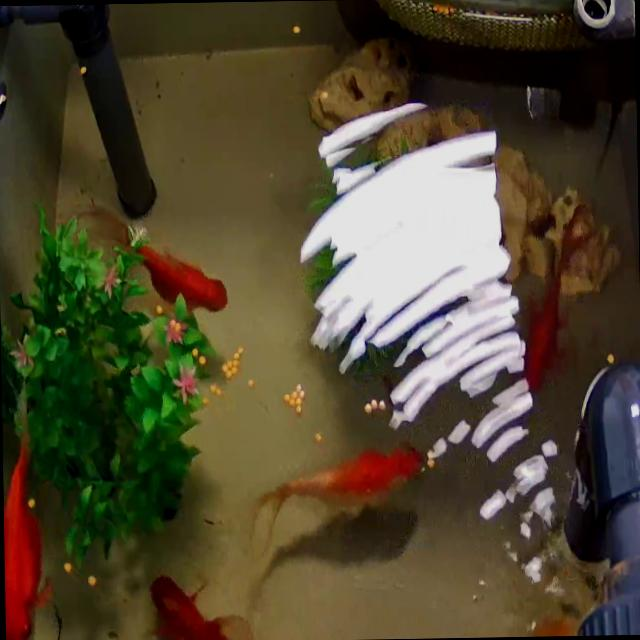fish: (250, 440, 419, 550), (520, 198, 576, 394), (2, 422, 51, 640), (147, 567, 276, 640), (128, 238, 228, 314), (40, 612, 69, 640)
